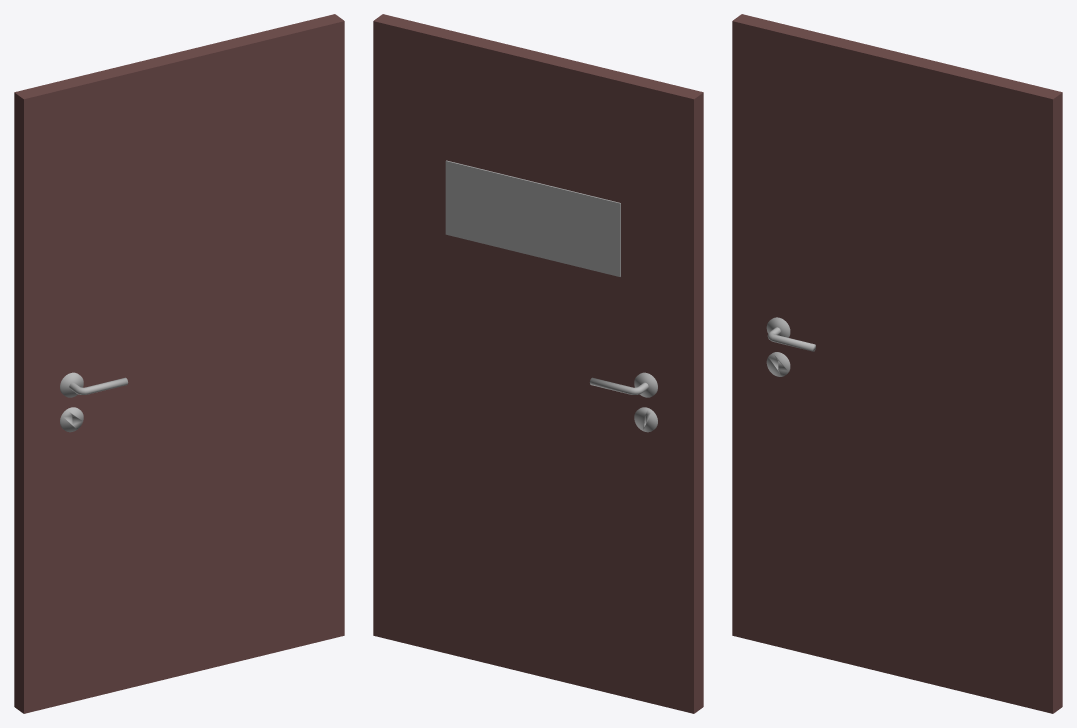
File: Staff_Door2.fbx
The picture shows the model from 3 angles, left to right: view 1: azimuth 30°, elevation 25°; view 2: azimuth 150°, elevation 25°; view 3: azimuth 330°, elevation 25°; orthographic projection.
Parts seen in each view (by area): view 1: Door; view 2: Door; view 3: Door.
Boxes of the visible parts, box(x1,y1,x2,y2) form: Door: box(14, 14, 344, 713); Door: box(373, 14, 703, 713); Door: box(732, 14, 1062, 713).
Bounding box in the file's own units: 148 × 272 × 27.09.
